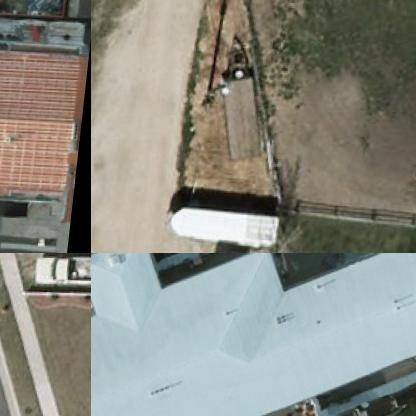pickup: (29, 254, 90, 283)
